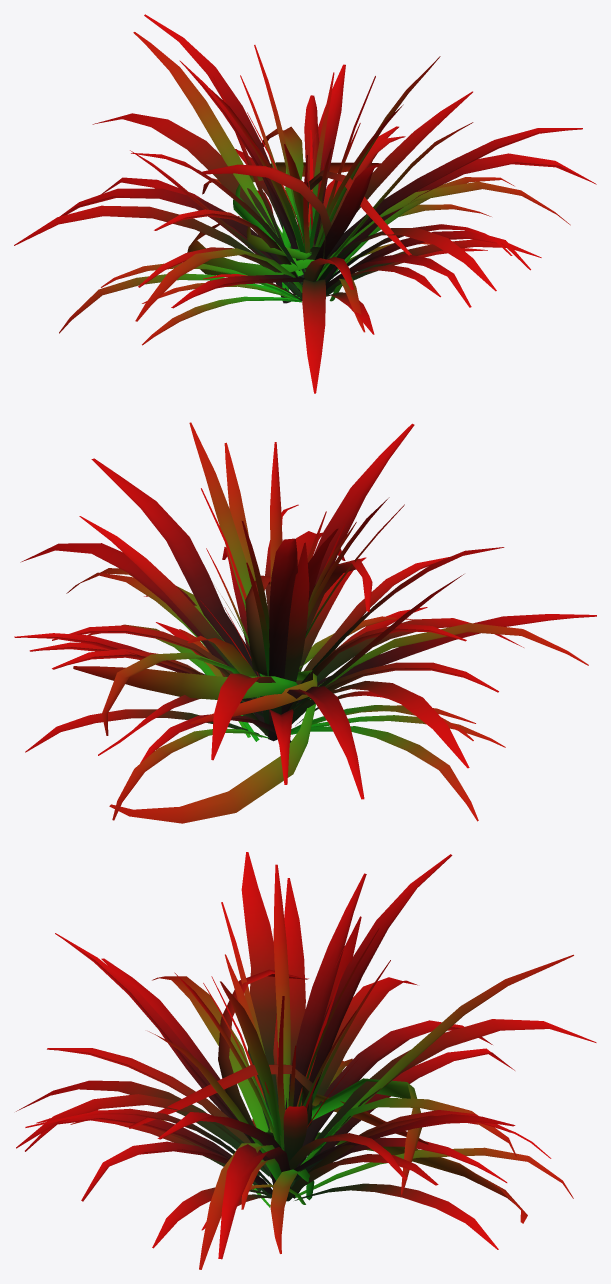
Rendered from Ribbon Plant_LOD1_Var2_rhDrj.fbx.
3 renders of one model, top to bottom at view 1: azimuth 30°, elevation 25°; view 2: azimuth 150°, elevation 25°; view 3: azimuth 270°, elevation 25°, orthographic. The views are drawn at different scales.
Parts seen in each view (by area): view 1: _0dc4_Var2_LOD1; view 2: _0dc4_Var2_LOD1; view 3: _0dc4_Var2_LOD1.
Boxes of the visible parts, box(x1,y1,x2,y2) form: _0dc4_Var2_LOD1: box(14, 14, 596, 393); _0dc4_Var2_LOD1: box(14, 422, 596, 823); _0dc4_Var2_LOD1: box(16, 852, 596, 1269).
Size of the model in its own units: 52.45 by 26.37 by 46.48.
